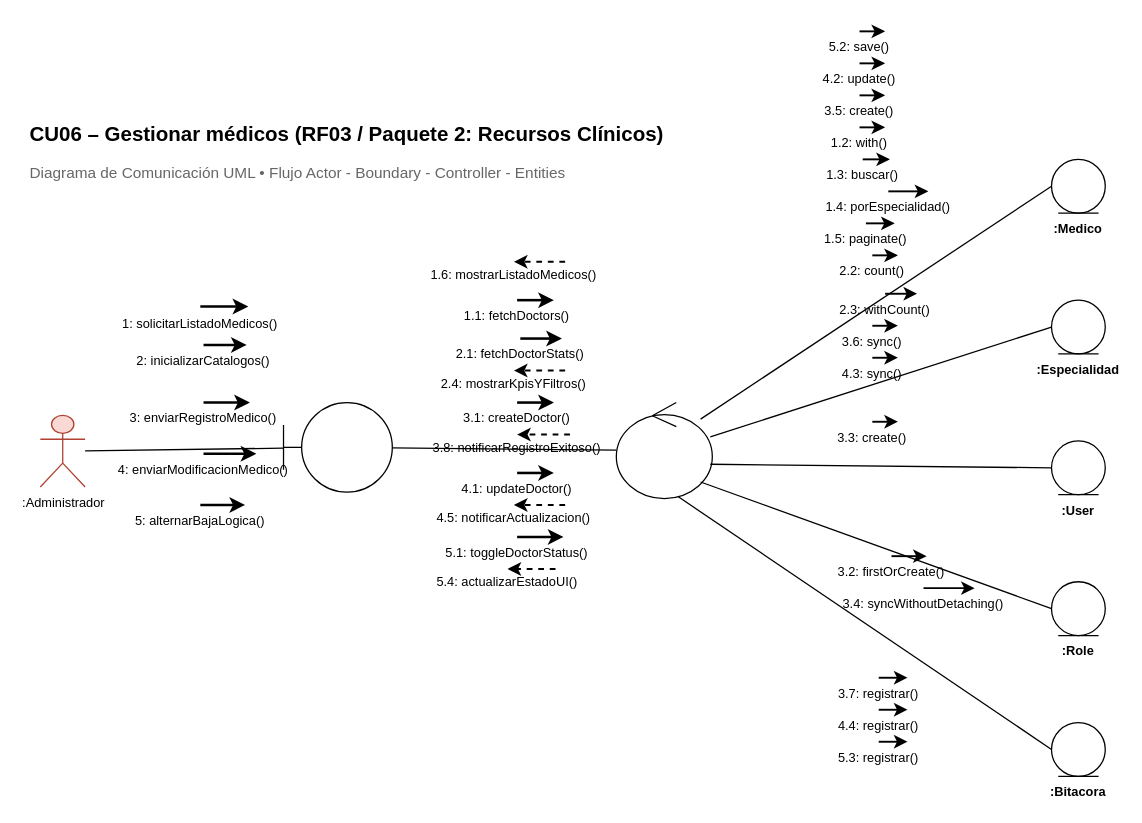
Image size: 1142x823. Some labels were removed from this diagram. The centre of each missing label's shape, as x and y in pixels:
:DoctorsController: (x=663, y=450)
:DoctorsManager: (x=337, y=446)
